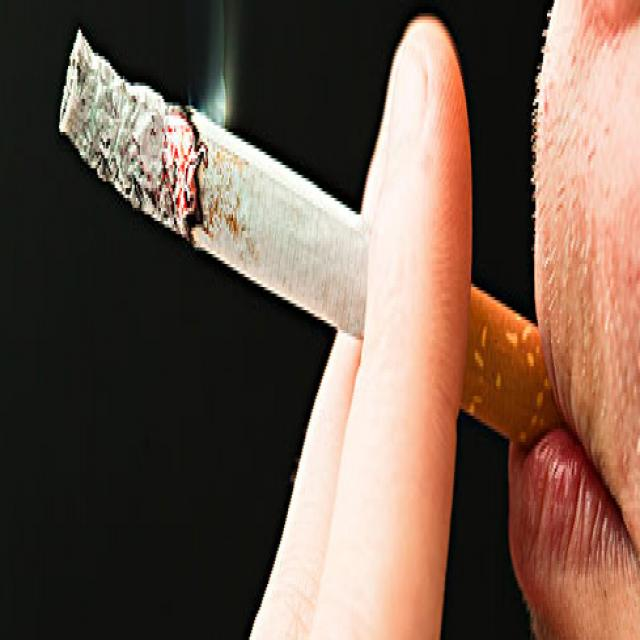smoking: (61, 27, 547, 439)
